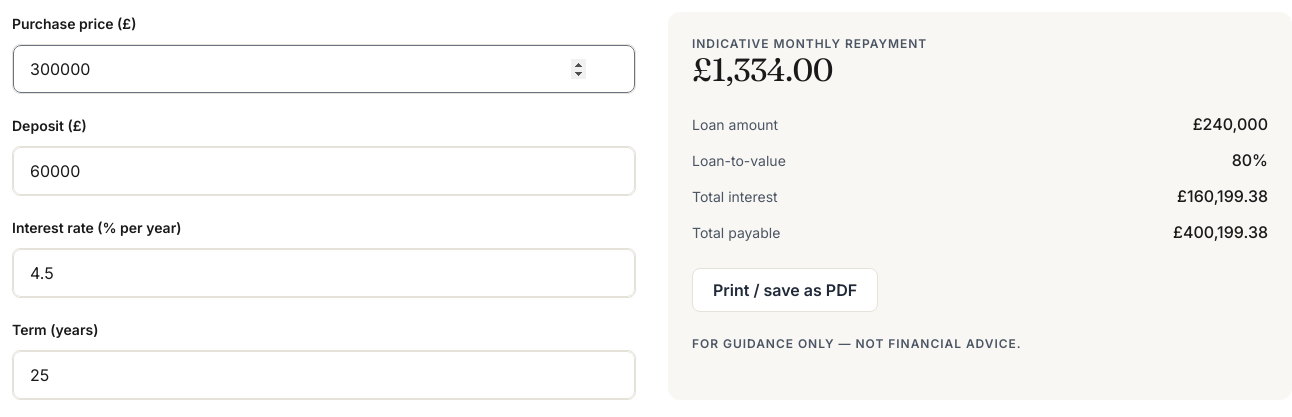
MortgageCalculator › shows a prompt instead of a result when the inputs are not yet valid
This screenshot has width=1292, height=417.
# Deposit greater than price → invalid (mortgageInputSchema refine) → no result.
Step 1. Replace the text in the number field labelled "Deposit (£)" with "999999999" → (324, 171), box [13,147,635,195]
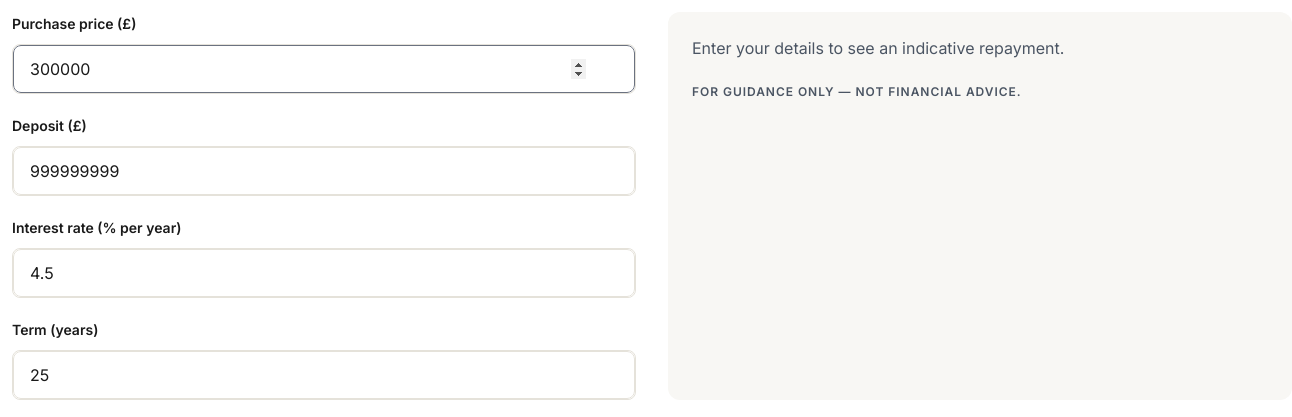
Result: the text with test id "monthly-repayment" is gone
Result: the text "Enter your details to see an indicative repayment." is shown at [692,38,1064,58]
